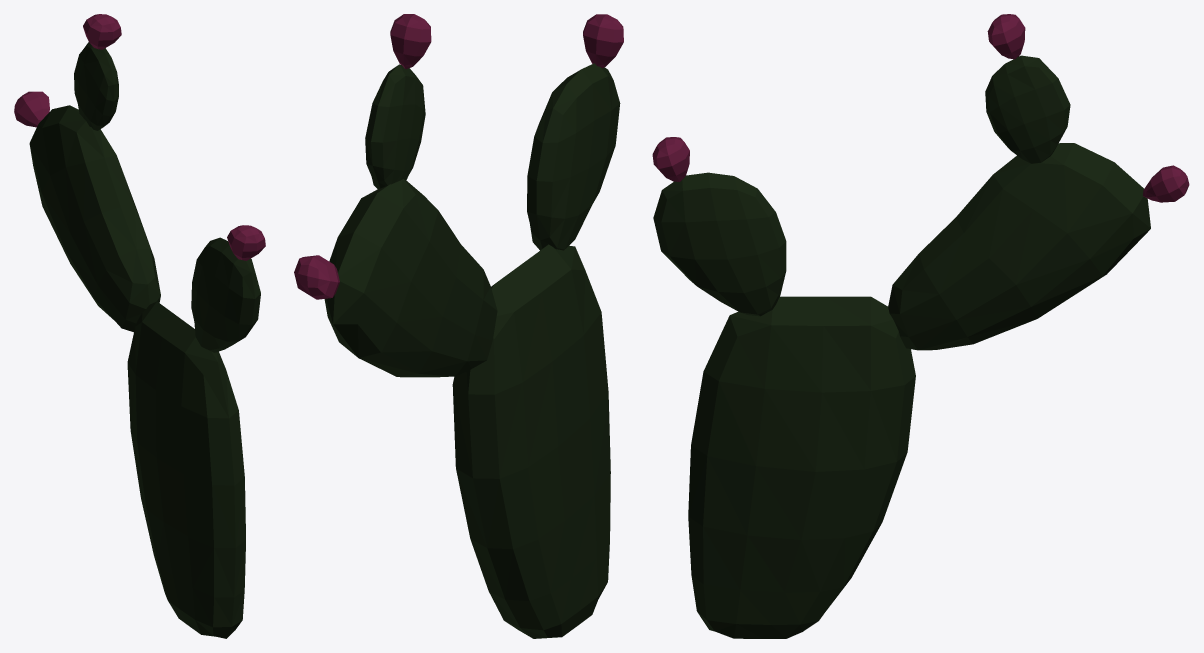
Rendered from CactusFlowers_5.obj.
3 renders of one model, left to right at view 1: azimuth 30°, elevation 25°; view 2: azimuth 150°, elevation 25°; view 3: azimuth 270°, elevation 25°, orthographic. The views are drawn at different scales.
Visible parts, largest first — view 1: CactusFlowers_5; view 2: CactusFlowers_5; view 3: CactusFlowers_5.
Boxes of the visible parts, <box> form: CactusFlowers_5: <box>14,14,265,638</box>; CactusFlowers_5: <box>294,14,623,638</box>; CactusFlowers_5: <box>652,14,1189,638</box>.
Bounding box in the file's own units: 0.1117 × 0.9382 × 0.734.
